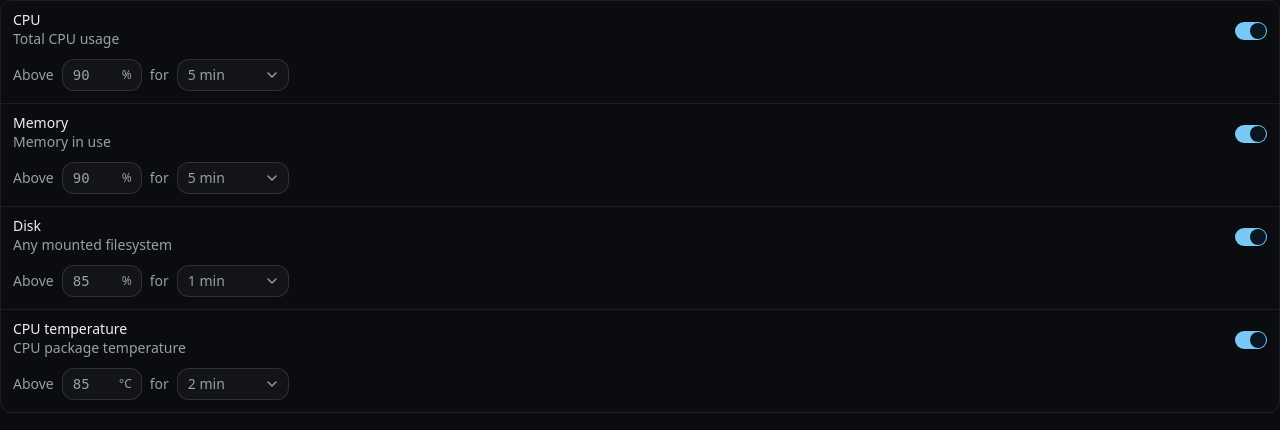
Test: AlertSettings › puts an out-of-range threshold back without saving
Replace the text in the number field named "CPU temperature threshold" with "500": (102, 384) x1=62 y1=368 x2=142 y2=400
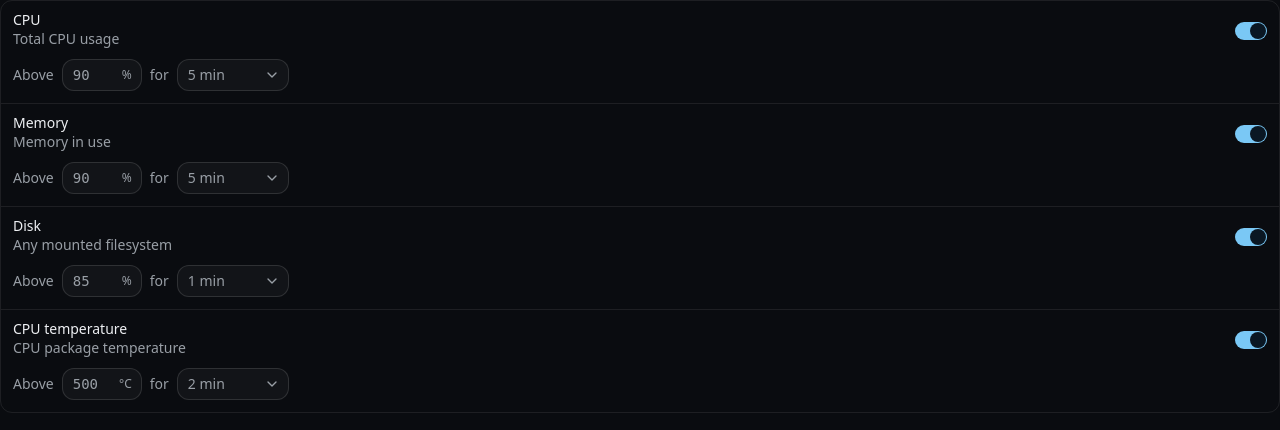
Leave the number field named "CPU temperature threshold", box x1=62 y1=368 x2=142 y2=400
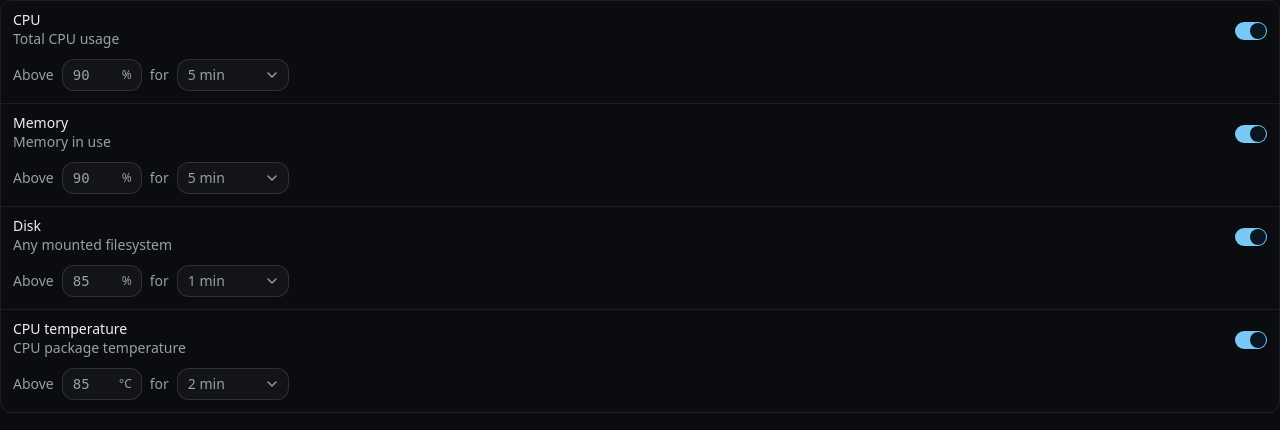
Check: the number field named "CPU temperature threshold" holds "85", box x1=62 y1=368 x2=142 y2=400
